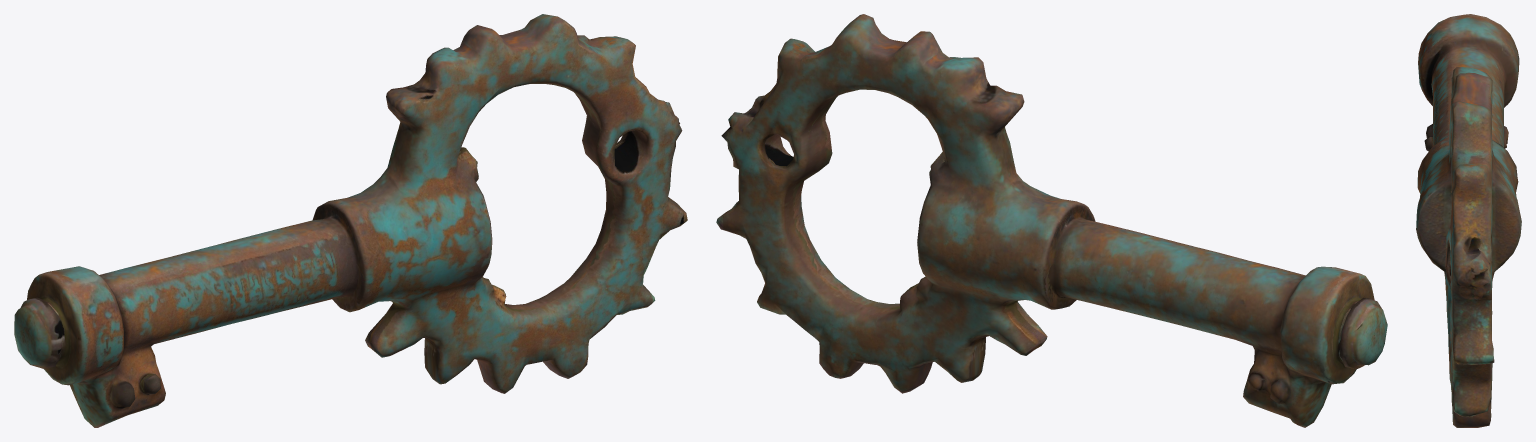
3 views of the same model, side by side, from view 1: azimuth 30°, elevation 25°; view 2: azimuth 150°, elevation 25°; view 3: azimuth 270°, elevation 25° (orthographic). The views are drawn at different scales.
Parts seen in each view (by area): view 1: Mesh1.0; view 2: Mesh1.0; view 3: Mesh1.0.
Part boxes in pixels (<box>): Mesh1.0: <box>14,14,687,427</box>; Mesh1.0: <box>716,14,1387,427</box>; Mesh1.0: <box>1416,14,1521,427</box>.
Bounding box in the file's own units: 200 × 106 × 31.67.
Materials: 1 (1 with a texture image).
